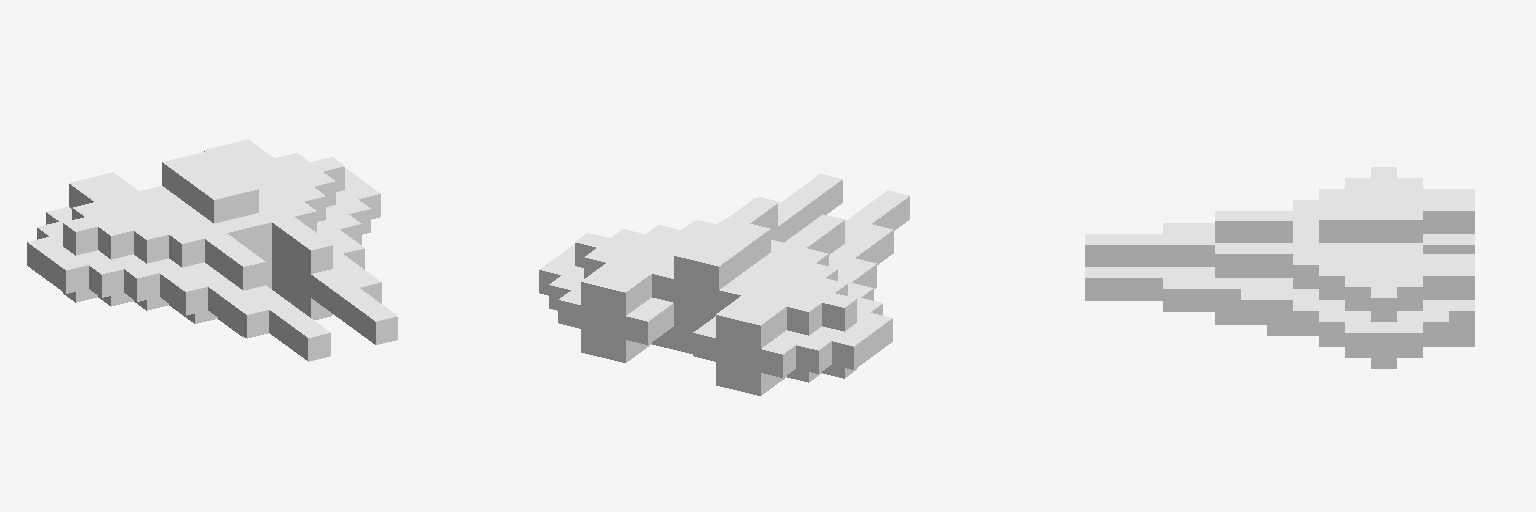
The model's file is Yellow.obj.
3 views of the same model, side by side, from view 1: azimuth 30°, elevation 25°; view 2: azimuth 150°, elevation 25°; view 3: azimuth 270°, elevation 25° (orthographic).
Parts seen in each view (by area): view 1: Yellow; view 2: Yellow; view 3: Yellow.
Part boxes in pixels (x1,y1,x2,y2): Yellow: (27, 139, 397, 361); Yellow: (539, 174, 909, 395); Yellow: (1085, 167, 1474, 368).
Size of the model in its own units: 14 by 4 by 15.